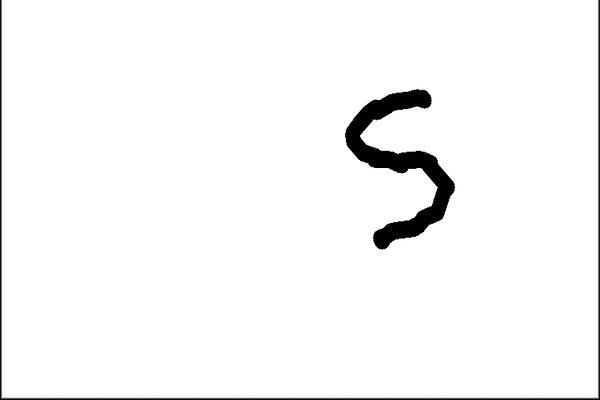S: (338, 84, 459, 253)
